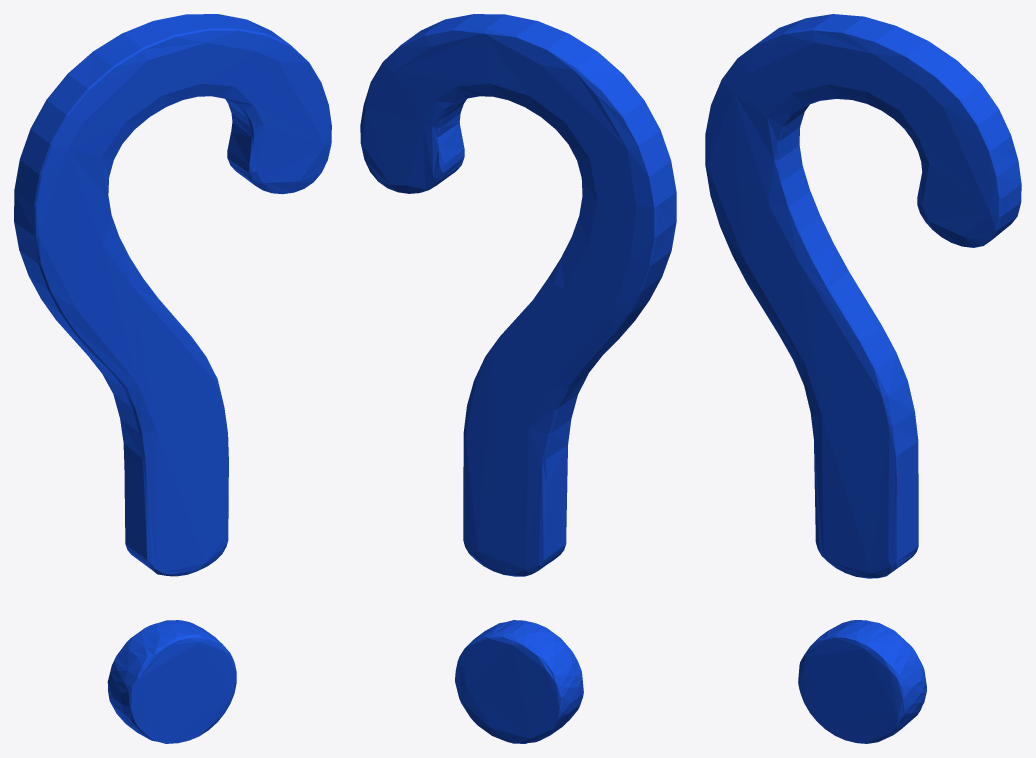
File: QuestionMark.gltf
3 renders of one model, left to right at view 1: azimuth 30°, elevation 25°; view 2: azimuth 150°, elevation 25°; view 3: azimuth 330°, elevation 25°, orthographic.
Visible parts, largest first — view 1: Object.2, Object.1; view 2: Object.2, Object.1; view 3: Object.2, Object.1.
Part boxes in pixels (box(x1,y1,x2,y2)): Object.2: box(14, 14, 331, 576); Object.1: box(107, 620, 236, 743); Object.2: box(360, 14, 676, 576); Object.1: box(455, 620, 583, 743); Object.2: box(705, 14, 1021, 578); Object.1: box(798, 620, 926, 743).
Size of the model in its own units: 22.67 by 51.72 by 3.39.
